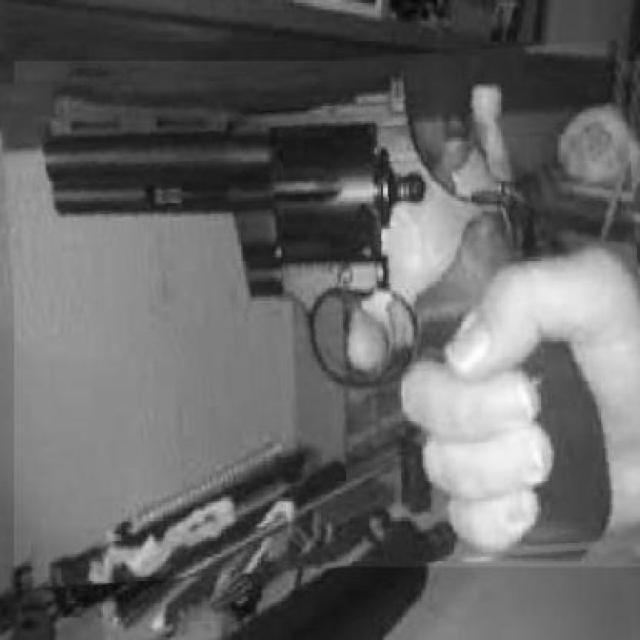weapon: (4, 49, 640, 576)
